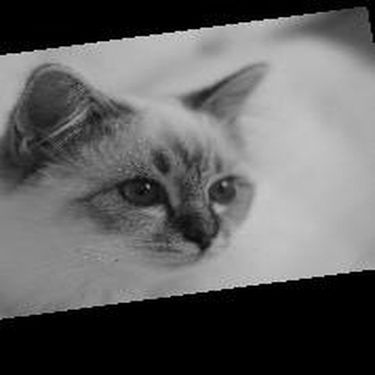cat: (1, 60, 270, 275)
